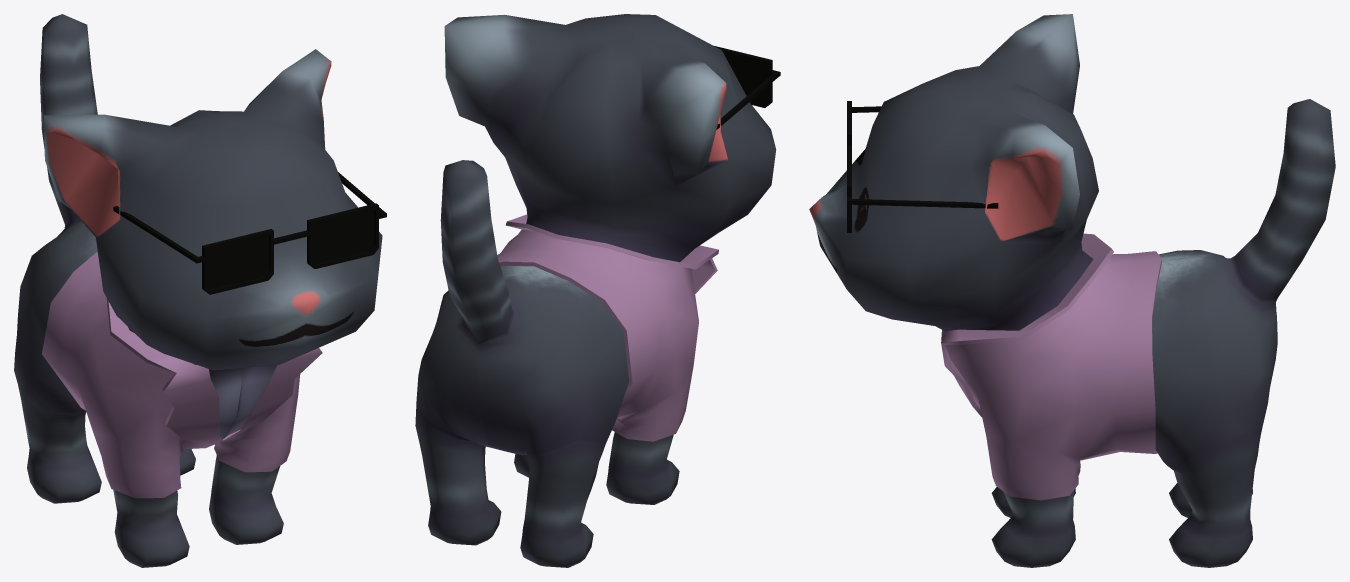
The model's file is Theater Cat04.fbx.
The picture shows the model from 3 angles, left to right: view 1: azimuth 30°, elevation 25°; view 2: azimuth 150°, elevation 25°; view 3: azimuth 270°, elevation 25°; orthographic projection. The views are drawn at different scales.
Visible parts, largest first — view 1: Cat_Base003, TS_Cat_Shirt, Theater_Cat_Glasses; view 2: Cat_Base003, TS_Cat_Shirt, Theater_Cat_Glasses; view 3: Cat_Base003, TS_Cat_Shirt, Theater_Cat_Glasses.
Part boxes in pixels (bbox=[...]): Cat_Base003: bbox=[14, 14, 382, 567]; TS_Cat_Shirt: bbox=[42, 251, 322, 498]; Theater_Cat_Glasses: bbox=[113, 172, 386, 294]; Cat_Base003: bbox=[415, 14, 776, 567]; TS_Cat_Shirt: bbox=[497, 214, 718, 441]; Theater_Cat_Glasses: bbox=[714, 46, 780, 129]; Cat_Base003: bbox=[809, 14, 1335, 567]; TS_Cat_Shirt: bbox=[941, 233, 1161, 500]; Theater_Cat_Glasses: bbox=[847, 101, 998, 232].
Size of the model in its own units: 1.75 by 2.83 by 2.68.
Materials: 4 (1 with a texture image).
